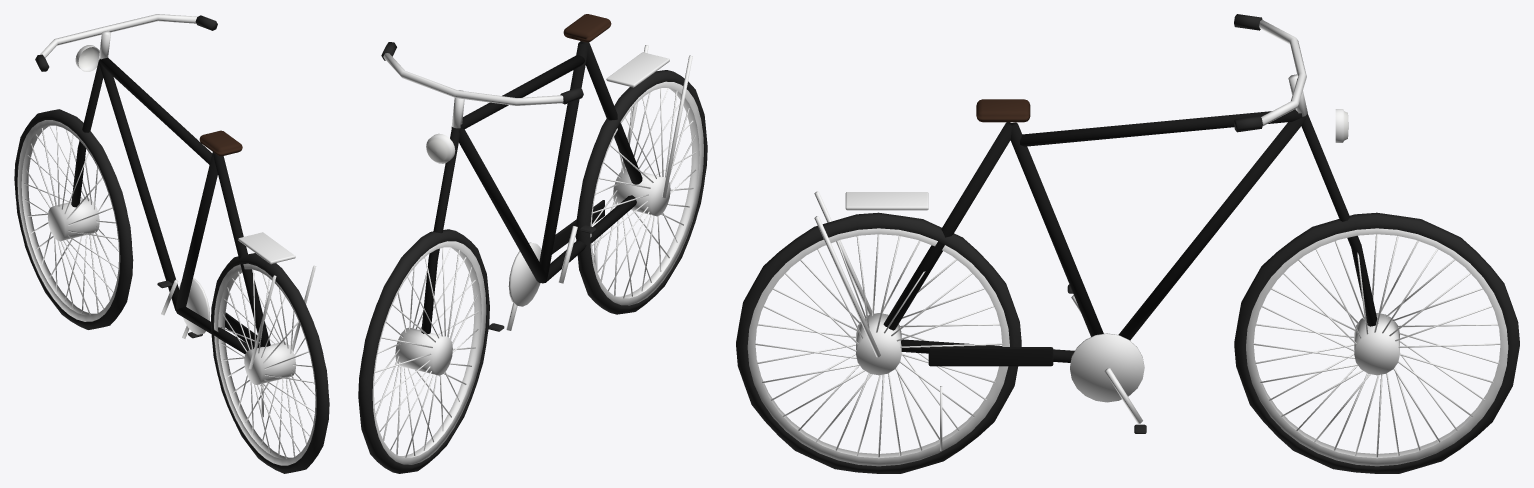
File: cycle_0.glb
3 renders of one model, left to right at view 1: azimuth 30°, elevation 25°; view 2: azimuth 150°, elevation 25°; view 3: azimuth 270°, elevation 25°, orthographic. The views are drawn at different scales.
Visible parts, largest first — view 1: body, wheel_0, wheel_1; view 2: body, wheel_0, wheel_1; view 3: body, wheel_0, wheel_1.
Part boxes in pixels (<box>): body: <box>35,14,316,417</box>; wheel_0: <box>14,109,133,329</box>; wheel_1: <box>210,253,329,473</box>; body: <box>381,14,692,333</box>; wheel_0: <box>358,229,489,473</box>; wheel_1: <box>576,70,707,314</box>; body: <box>814,14,1378,450</box>; wheel_0: <box>1234,212,1519,473</box>; wheel_1: <box>736,212,1021,473</box>.
Bounding box in the file's own units: 0.6304 × 1.07 × 1.89.
